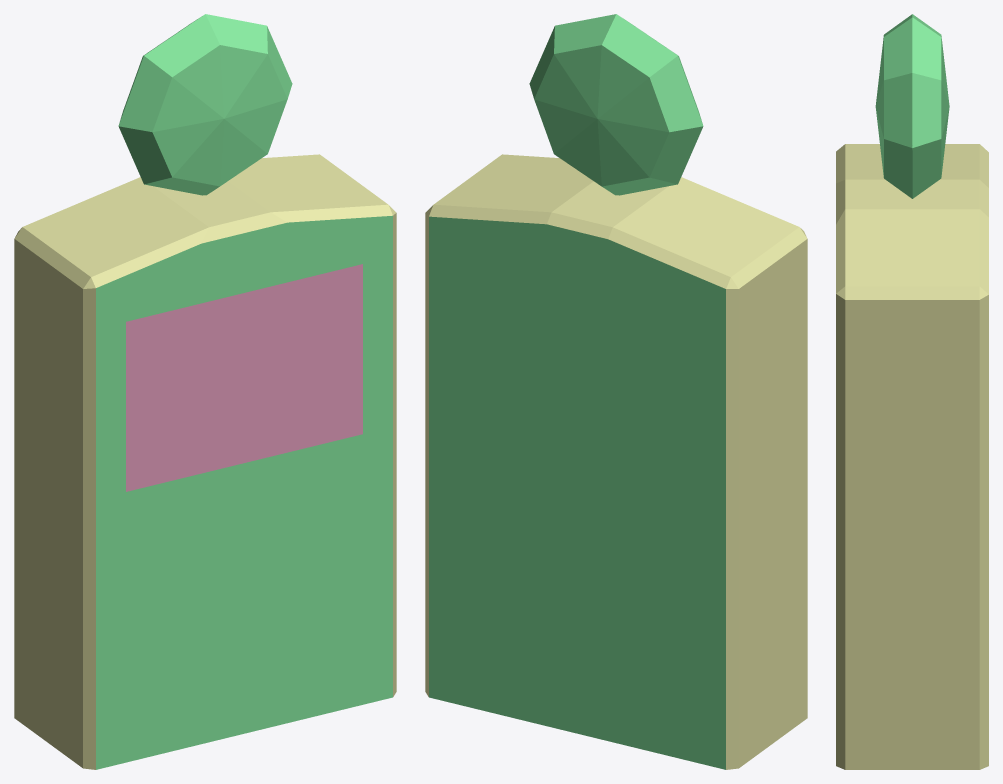
File: petrol-station.gltf
3 renders of one model, left to right at view 1: azimuth 30°, elevation 25°; view 2: azimuth 150°, elevation 25°; view 3: azimuth 270°, elevation 25°, orthographic.
Visible parts, largest first — view 1: Plane.006; view 2: Plane.006; view 3: Plane.006.
Boxes of the visible parts, bbox=[...] form: Plane.006: bbox=[14, 14, 396, 769]; Plane.006: bbox=[425, 14, 807, 769]; Plane.006: bbox=[836, 14, 988, 769].
Size of the model in its own units: 1.46 by 3.08 by 0.6303.
